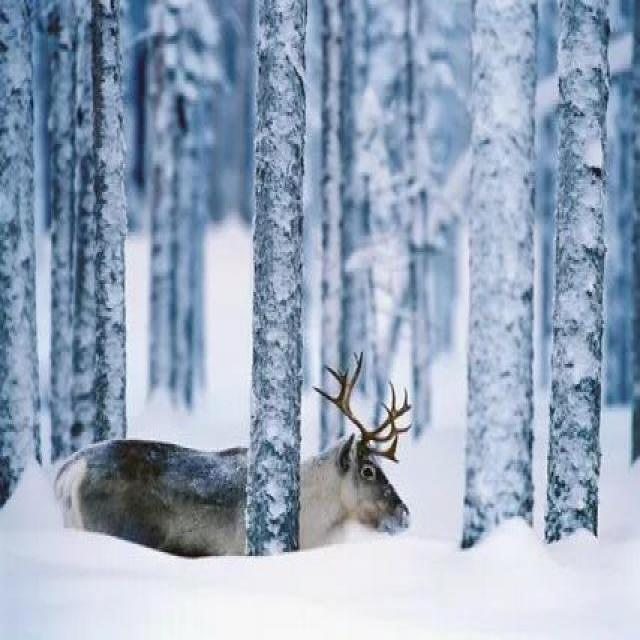deer: (54, 314, 402, 578)
